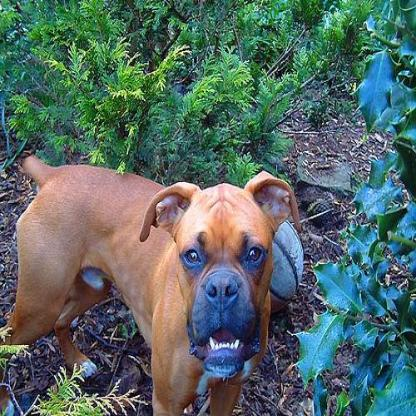boxer: (0, 158, 300, 402)
